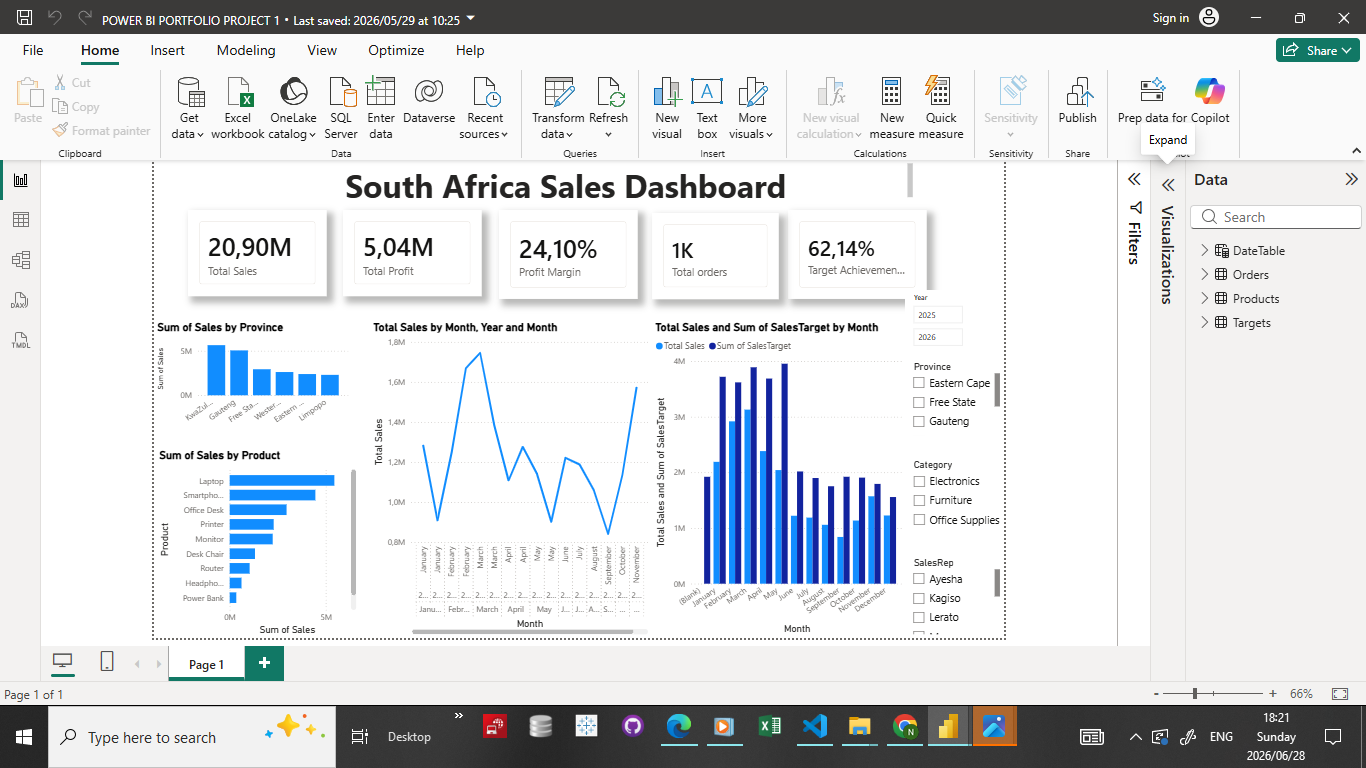

The dashboard page shown, as its layout file describes it:
{"tool":"powerbi","page":{"name":"Page 1","canvas":[1280,720],"ordinal":0},"visuals":[{"type":"cardVisual","fields":{"Data":["Targets.Target Achievement %"]},"box":[955,75.3,209.4,134.1],"z":0},{"type":"cardVisual","fields":{"Data":["DateTable.Total orders"]},"box":[750.1,79.8,191.3,129.5],"z":1000},{"type":"cardVisual","fields":{"Data":["DateTable.Profit Margin"]},"box":[519.7,75.3,209.4,134.1],"z":2000},{"type":"cardVisual","fields":{"Data":["DateTable.Total Profit"]},"box":[284.7,75.3,209.4,129.5],"z":3000},{"type":"cardVisual","fields":{"Data":["DateTable.Total Sales"]},"box":[51.2,75.3,209.4,129.5],"z":4000},{"type":"lineChart","fields":{"Y":["DateTable.Total Sales"],"Category":["DateTable.Month","DateTable.Date.Variation.Date Hierarchy.Year","DateTable.Date.Variation.Date Hierarchy.Month"]},"box":[325.9,241.5,423.7,478.5],"z":5000},{"type":"clusteredBarChart","fields":{"Category":["Orders.Product"],"Y":["Sum(Orders.Sales)"]},"box":[3,434.1,306.7,285.9],"z":6000},{"type":"clusteredColumnChart","fields":{"Category":["Orders.Province"],"Y":["Sum(Orders.Sales)"]},"box":[0,241.5,297.8,167.4],"z":7000},{"type":"slicer","fields":{"Values":["Orders.Province"]},"box":[1131.9,297.8,148.1,121.5],"z":8000},{"type":"slicer","fields":{"Values":["Orders.Category"]},"box":[1131.9,445.9,148.1,133.3],"z":9000},{"type":"slicer","fields":{"Values":["DateTable.Year"]},"box":[1131.9,195.6,148.1,88.9],"z":10000},{"type":"slicer","fields":{"Values":["Targets.SalesRep"]},"box":[1131.9,594.1,148.1,125.9],"z":11000},{"type":"textbox","box":[100.7,0,1047.4,66.7],"z":12000},{"type":"clusteredColumnChart","fields":{"Category":["DateTable.Month"],"Y":["DateTable.Total Sales","Sum(Targets.SalesTarget)"]},"box":[749.6,241.5,382.2,478.5],"z":13000}]}

Visuals, with their boxes on the page's 1280x720 design canvas (x1, y1, x2, y2). These are canvas units, not pixel positions in the 1366x768 screenshot, which may show the page scaled, cropped or inside an application window:
cardVisual - Targets.Target Achievement %: 955,75,1164,209
cardVisual - DateTable.Total orders: 750,80,941,209
cardVisual - DateTable.Profit Margin: 520,75,729,209
cardVisual - DateTable.Total Profit: 285,75,494,205
cardVisual - DateTable.Total Sales: 51,75,261,205
lineChart - DateTable.Total Sales x DateTable.Month: 326,242,750,720
clusteredBarChart - Orders.Product x Sum(Orders.Sales): 3,434,310,720
clusteredColumnChart - Orders.Province x Sum(Orders.Sales): 0,242,298,409
slicer - Orders.Province: 1132,298,1280,419
slicer - Orders.Category: 1132,446,1280,579
slicer - DateTable.Year: 1132,196,1280,284
slicer - Targets.SalesRep: 1132,594,1280,720
textbox: 101,0,1148,67
clusteredColumnChart - DateTable.Month x DateTable.Total Sales: 750,242,1132,720
